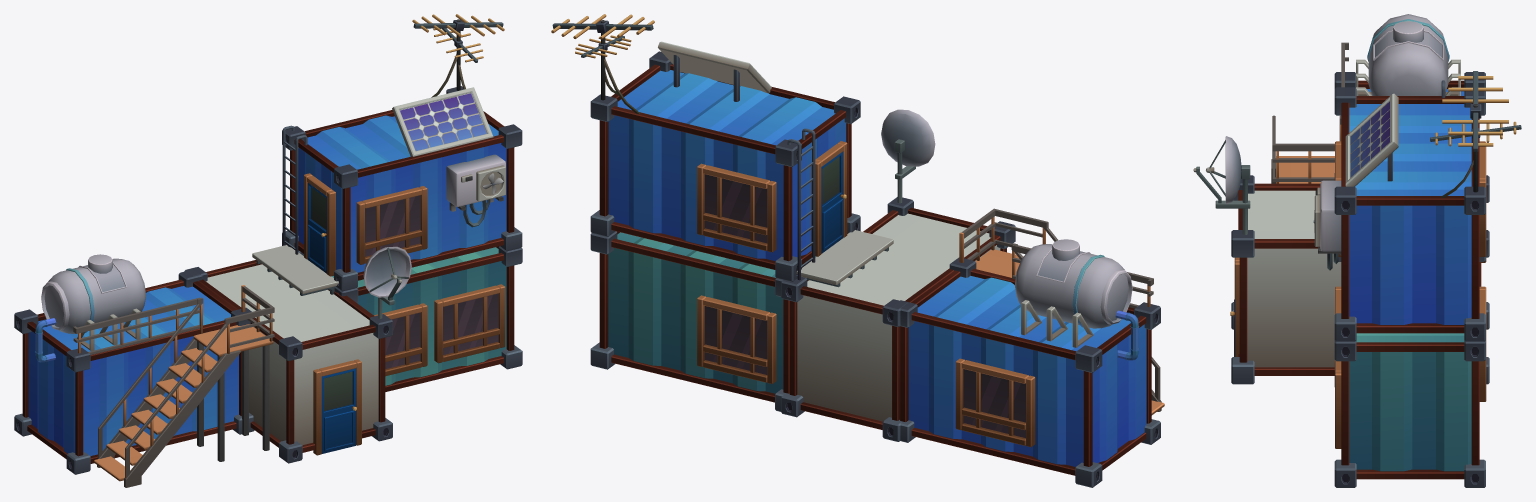
File: sp_prebuild_house_10.fbx
The picture shows the model from 3 angles, left to right: view 1: azimuth 30°, elevation 25°; view 2: azimuth 150°, elevation 25°; view 3: azimuth 270°, elevation 25°; orthographic projection. The views are drawn at different scales.
Parts seen in each view (by area): view 1: finb_house_10; view 2: finb_house_10; view 3: finb_house_10.
Boxes of the visible parts, bbox=[...] form: finb_house_10: bbox=[14, 14, 522, 487]; finb_house_10: bbox=[551, 14, 1164, 487]; finb_house_10: bbox=[1193, 14, 1521, 487].
Bounding box in the file's own units: 1364 × 825 × 634.
